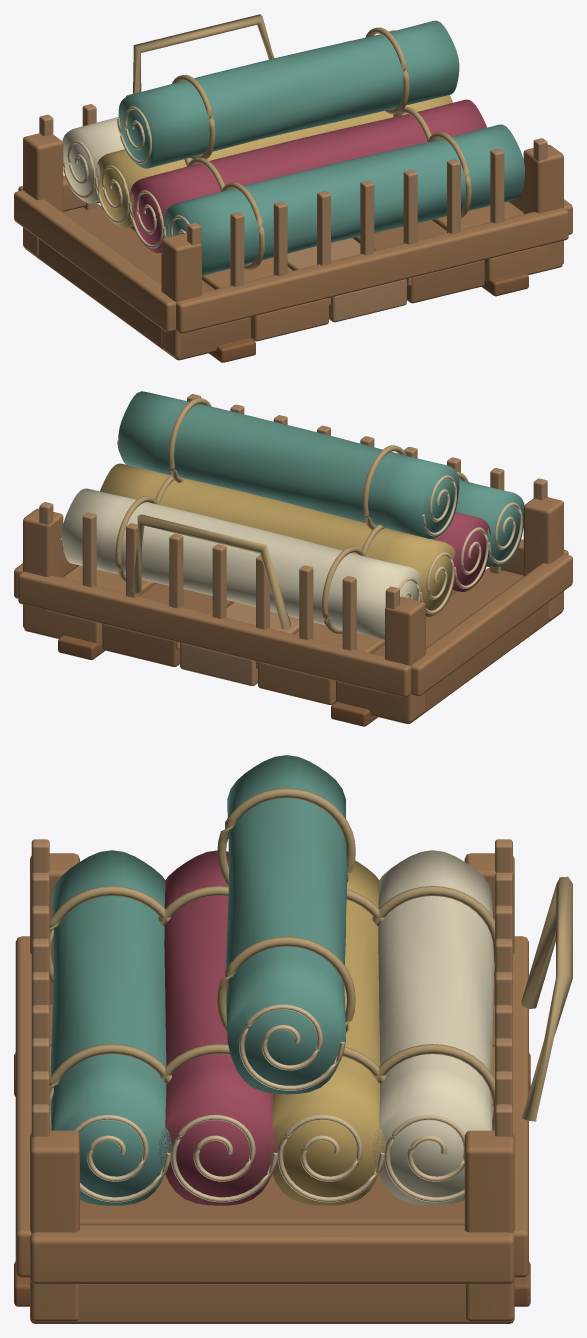
Rendered from silk.glb.
3 renders of one model, top to bottom at view 1: azimuth 30°, elevation 25°; view 2: azimuth 150°, elevation 25°; view 3: azimuth 270°, elevation 25°, orthographic. The views are drawn at different scales.
Visible parts, largest first — view 1: Cargo_silk; view 2: Cargo_silk; view 3: Cargo_silk.
Boxes of the visible parts, box(x1,y1,x2,y2) form: Cargo_silk: box(14, 14, 572, 362); Cargo_silk: box(14, 391, 572, 726); Cargo_silk: box(14, 755, 572, 1323).
Size of the model in its own units: 1.04 by 0.5066 by 0.7844.
